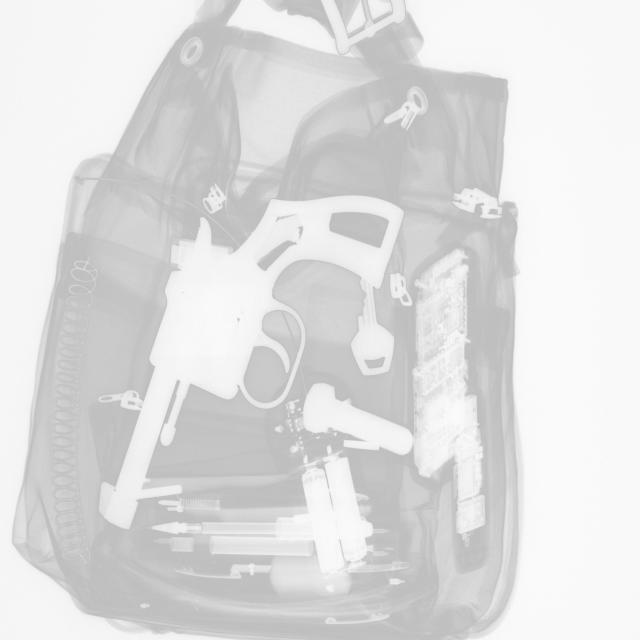pistol: (99, 193, 404, 529)
